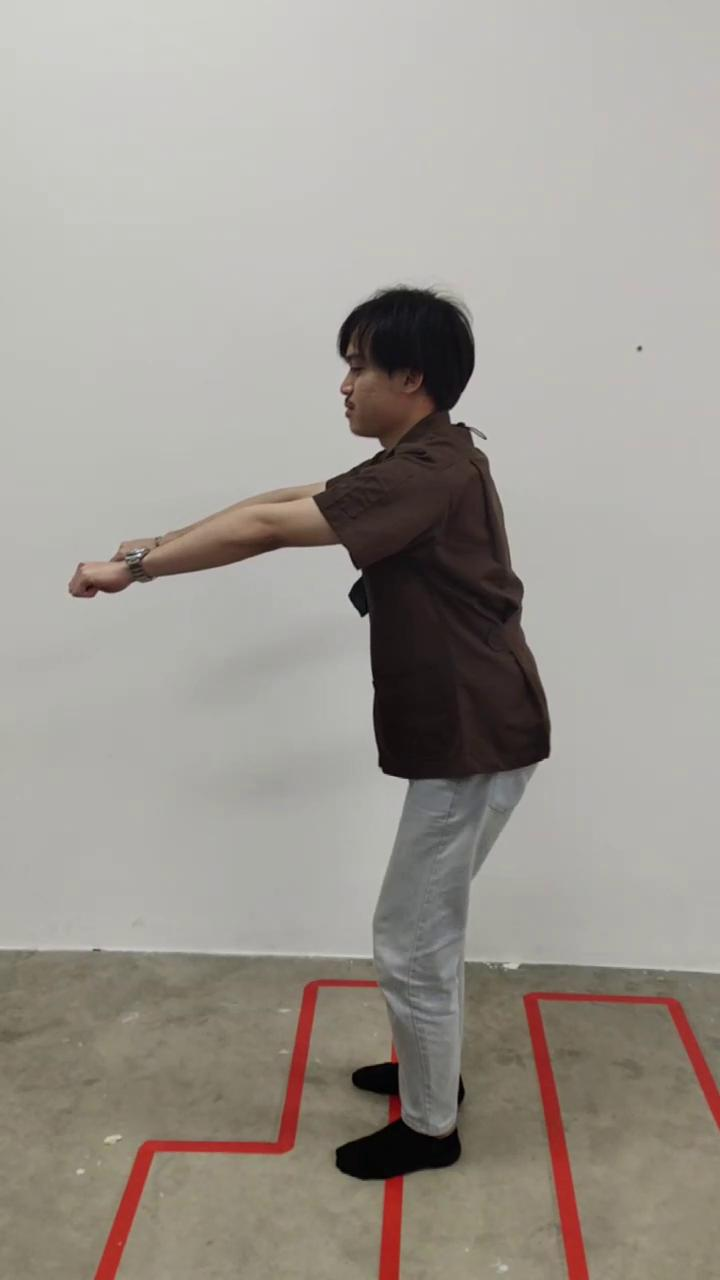squat up: (70, 285, 550, 1179)
